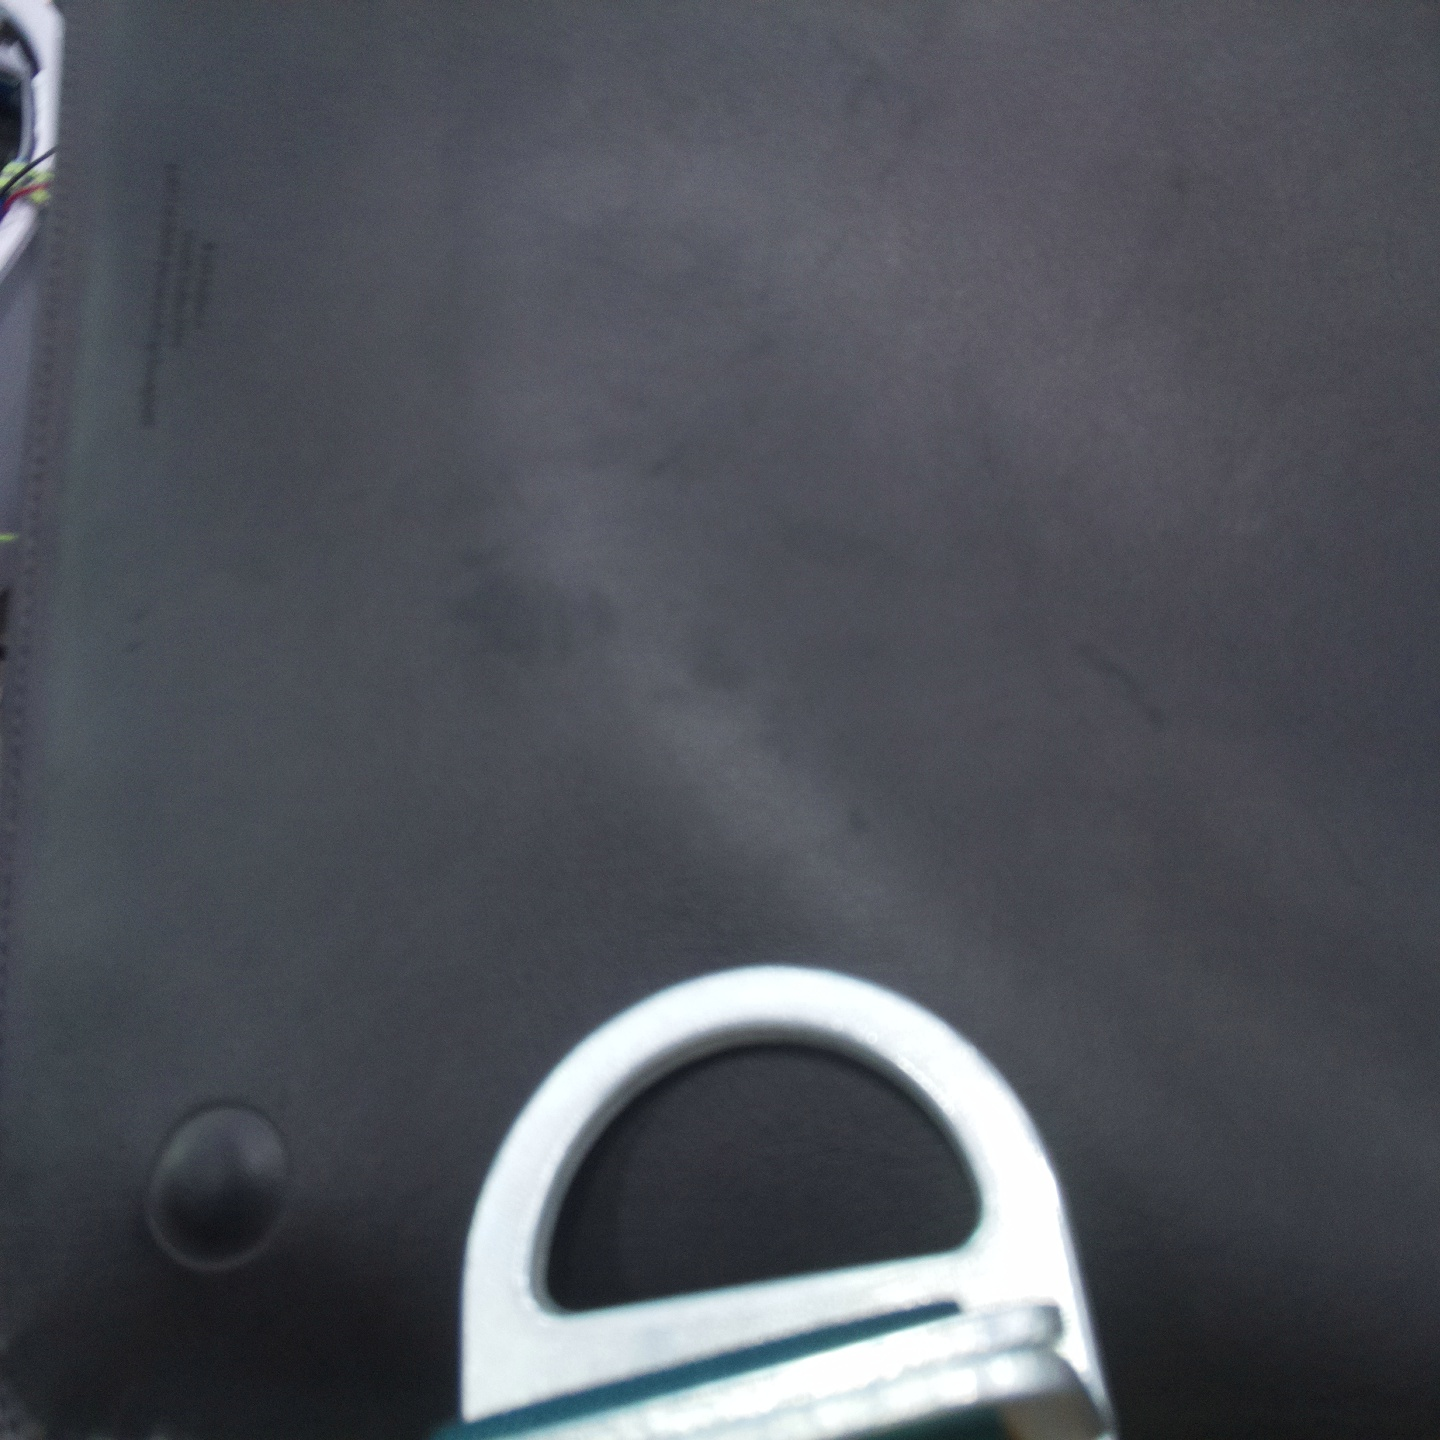UNSUCCESS: (407, 934, 1127, 1422)
